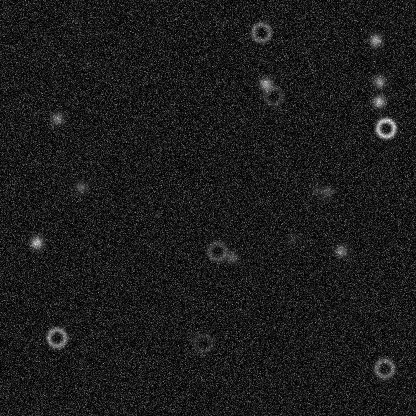Ring: (261, 83, 285, 107), (249, 20, 273, 44), (373, 116, 397, 140), (190, 331, 214, 355), (44, 325, 68, 349), (372, 356, 396, 380), (205, 238, 229, 262)
Spot: (285, 231, 301, 247), (371, 73, 387, 89), (49, 110, 65, 126), (318, 183, 334, 199), (308, 182, 324, 198), (370, 93, 386, 109), (332, 242, 348, 258), (73, 179, 89, 195), (257, 75, 273, 91), (28, 234, 44, 250), (367, 31, 383, 47), (223, 249, 239, 265)
